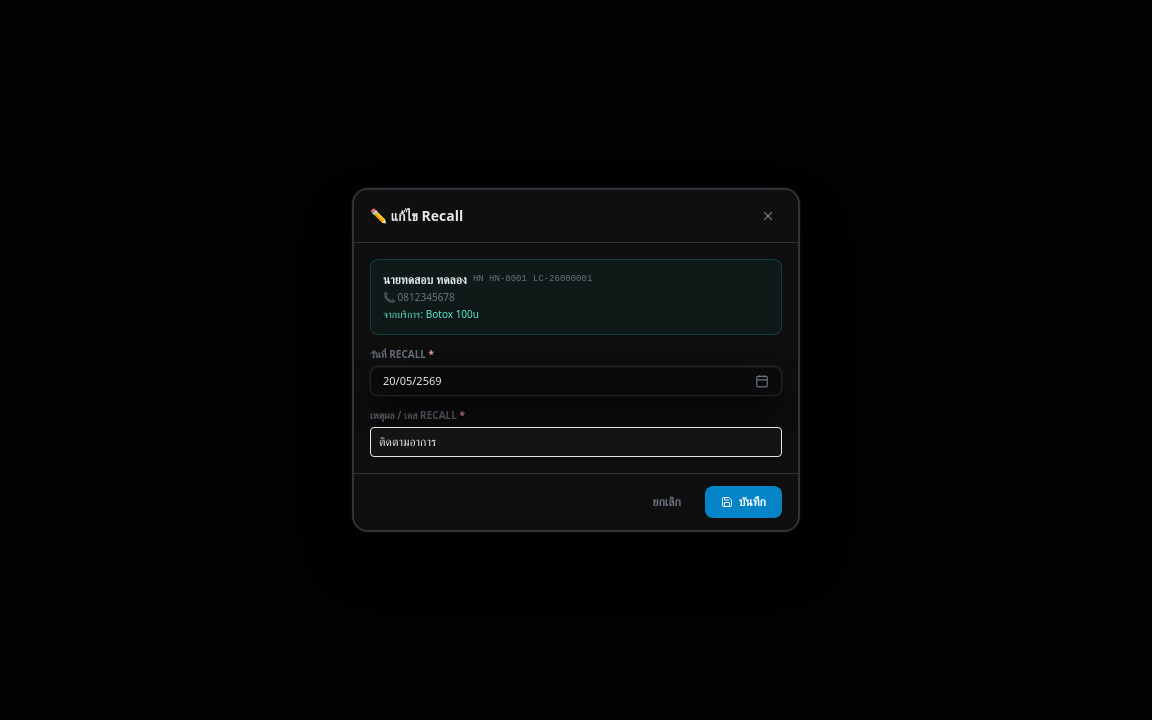
Test: Phase 29.23 E1 — RecallEditModal › E1.9 — save error shows banner; save button re-enabled
Click the button with test id "recall-edit-save": (743, 502) x1=705 y1=486 x2=782 y2=518
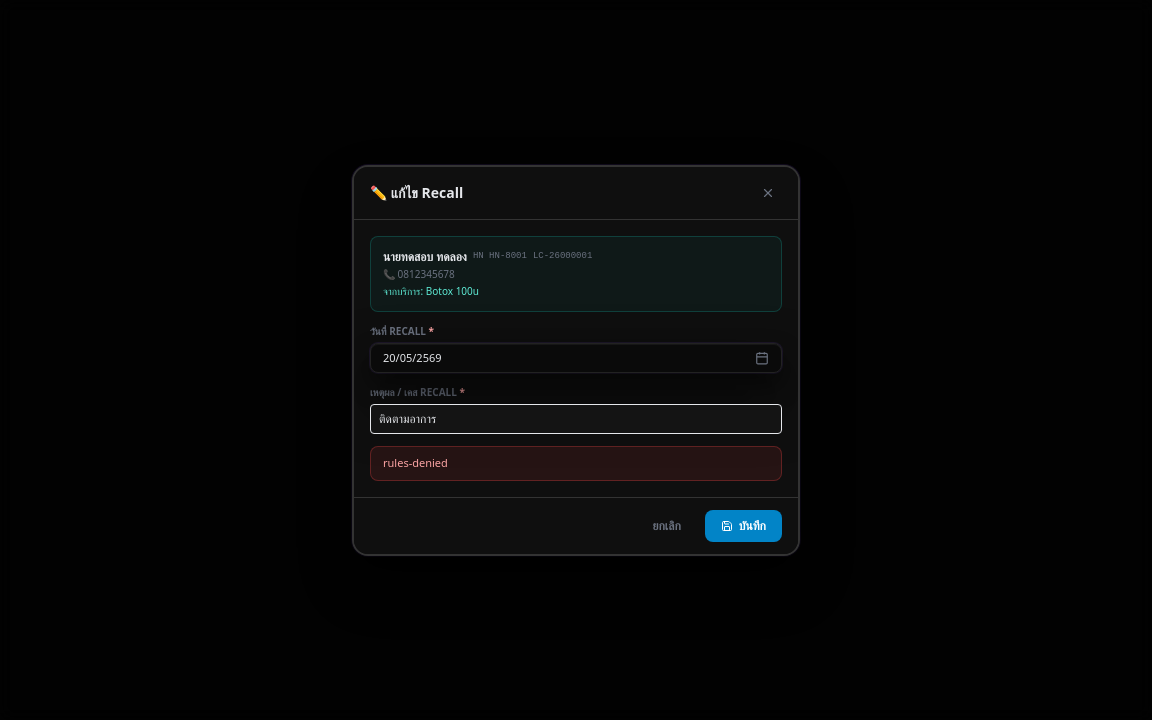
Expected: the button with test id "recall-edit-save" is enabled, x1=705 y1=510 x2=782 y2=542
Now the text with test id "recall-edit-error" reads "rules-denied", box x1=383 y1=455 x2=448 y2=470
